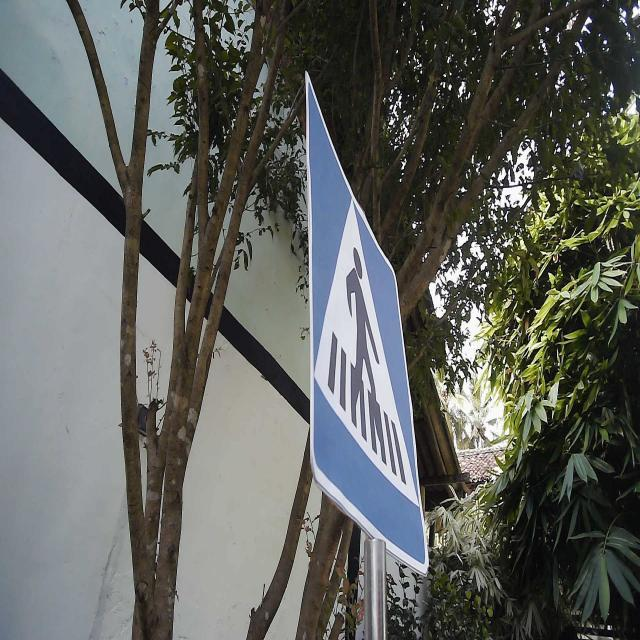crosswalk_sign: (303, 67, 432, 580)
